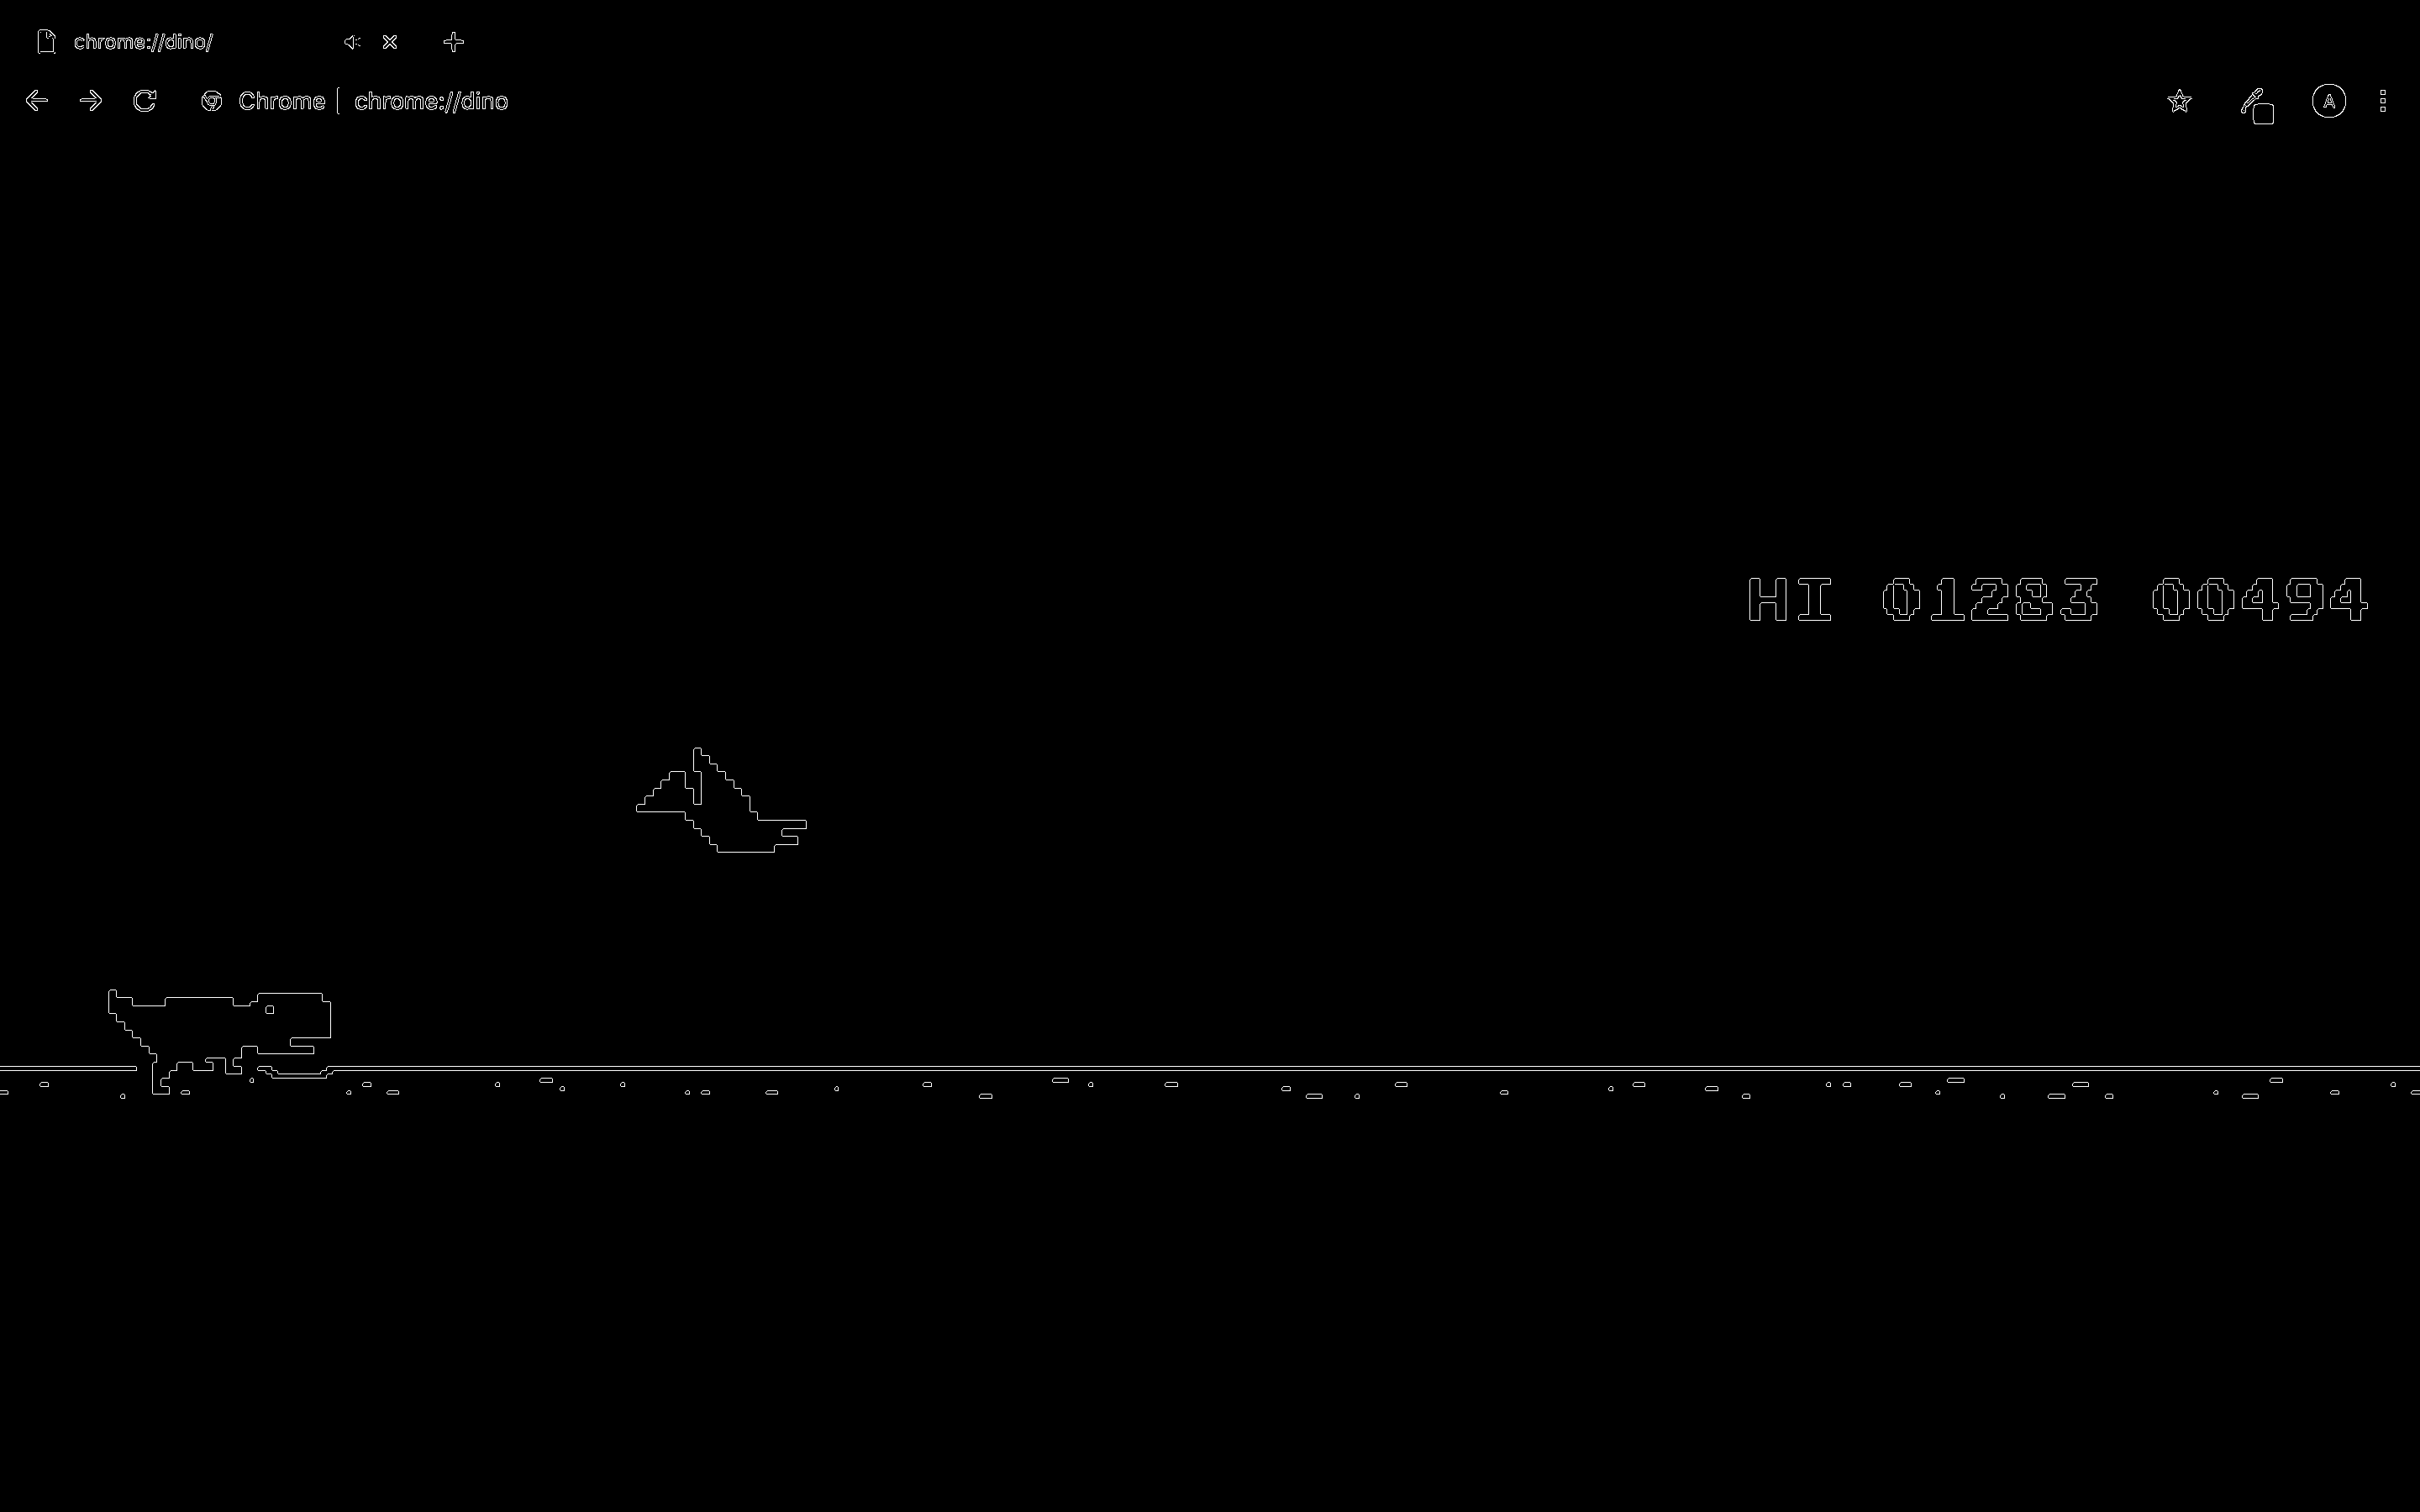Bird: (636, 754, 821, 864)
Dino: (106, 984, 341, 1092)
